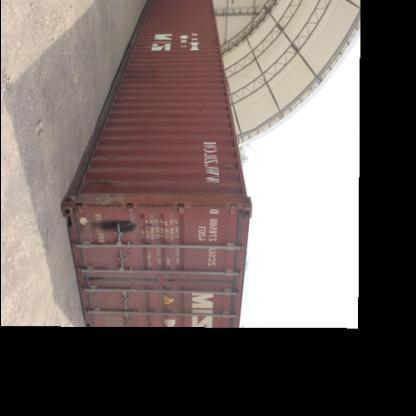Damage: (73, 175, 125, 207), (123, 56, 163, 94), (86, 213, 139, 239), (220, 157, 238, 177), (119, 250, 135, 262)
